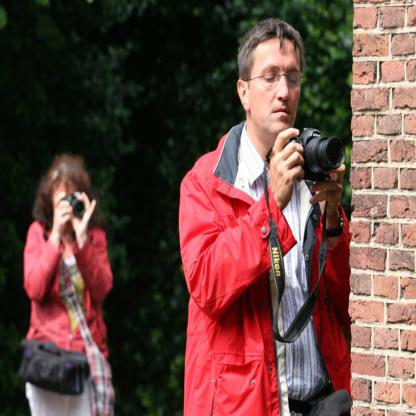Camera: (274, 121, 339, 182), (60, 196, 87, 213)
